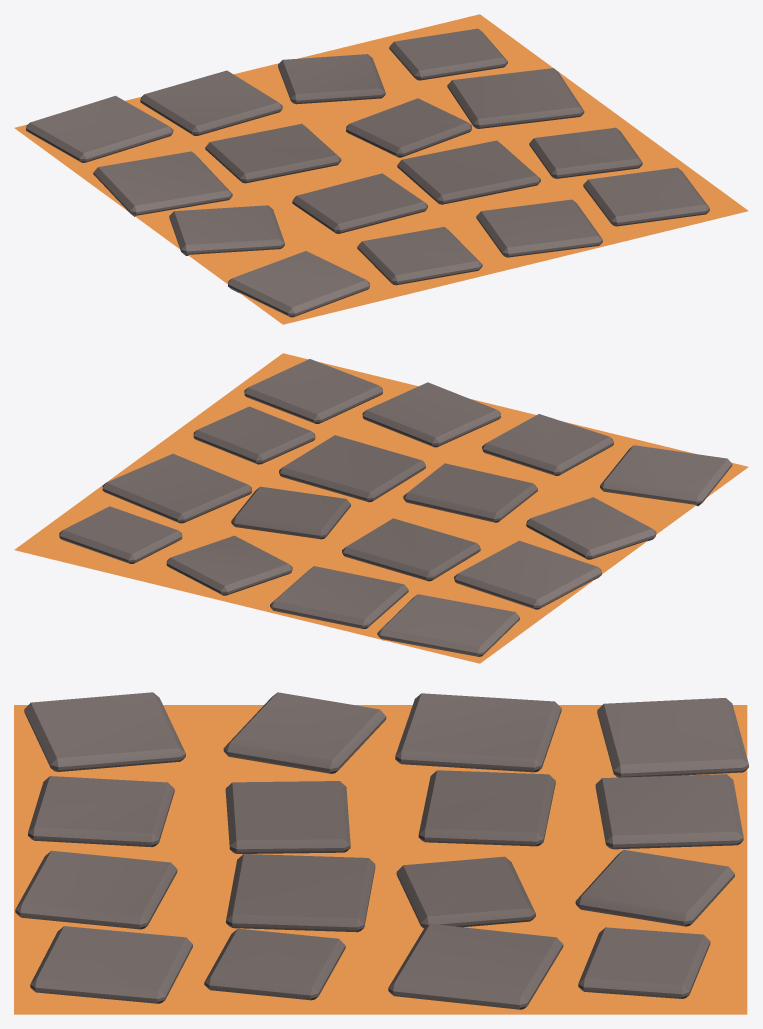
Rendered from dngp_lava.glb.
3 renders of one model, top to bottom at view 1: azimuth 30°, elevation 25°; view 2: azimuth 150°, elevation 25°; view 3: azimuth 270°, elevation 25°, orthographic. The views are drawn at different scales.
Visible parts, largest first — view 1: lava_crust; view 2: lava_crust; view 3: lava_crust.
Boxes of the visible parts, x1,y1,x2,y2 form: lava_crust: (14,14,748,324); lava_crust: (14,353,748,663); lava_crust: (14,692,748,1014).
Size of the model in its own units: 2.22 by 0.05 by 2.21.
